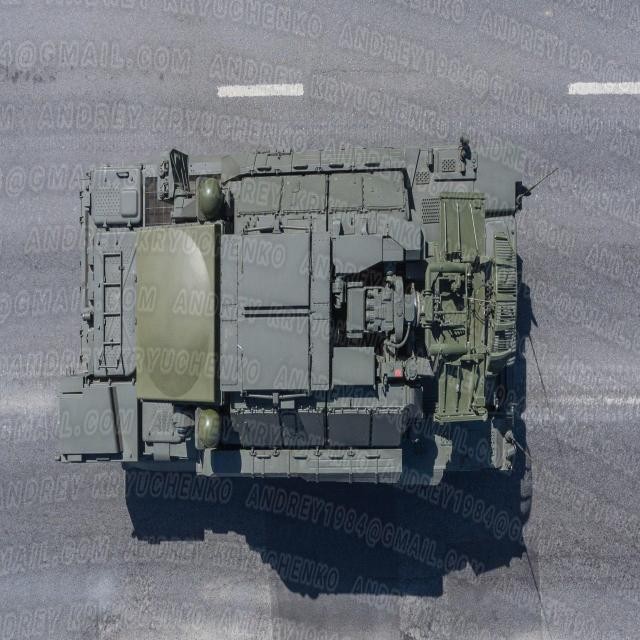MIL_MBT: (68, 135, 537, 505)
